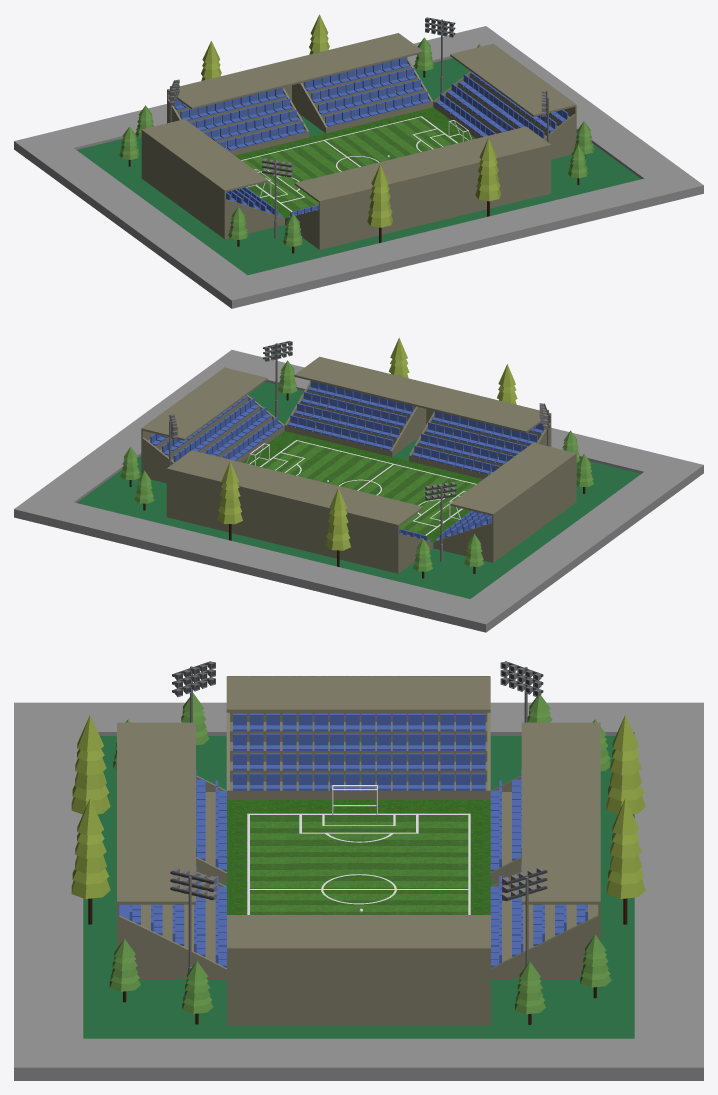
Rendered from Football Stadium.fbx.
3 views of the same model, one above another, from view 1: azimuth 30°, elevation 25°; view 2: azimuth 150°, elevation 25°; view 3: azimuth 270°, elevation 25° (orthographic). The views are drawn at different scales.
Parts seen in each view (by area): view 1: football_floor, football_chair00, football_chair03, football_chair01, football_chair02, football_tree, football_light_post, football_light_post.002; view 2: football_floor, football_chair03, football_chair00, football_chair01, football_chair02, football_tree, football_light_post.001, football_light_post.003; view 3: football_floor, football_chair01, football_chair02, football_chair00, football_chair03, football_tree, football_light_post.001, football_light_post.002, football_light_post.003, football_light_post.
Part boxes in pixels (box(x1,y1,x2,y2)): football_floor: box(14, 26, 703, 308); football_chair00: box(167, 33, 433, 155); football_chair03: box(285, 126, 551, 249); football_chair01: box(141, 119, 284, 239); football_chair02: box(433, 43, 576, 159); football_tree: box(119, 14, 593, 253); football_light_post: box(262, 158, 292, 238); football_light_post.002: box(425, 17, 455, 93); football_floor: box(14, 350, 703, 632); football_chair03: box(284, 356, 551, 479); football_chair00: box(166, 450, 433, 573); football_chair01: box(433, 442, 576, 562); football_chair02: box(141, 367, 284, 483); football_tree: box(120, 337, 593, 578); football_light_post.001: box(263, 341, 292, 417); football_light_post.003: box(425, 482, 456, 561); football_floor: box(14, 702, 703, 1080); football_chair01: box(226, 676, 490, 799); football_chair02: box(227, 915, 490, 1025); football_chair00: box(490, 722, 600, 978); football_chair03: box(117, 722, 226, 978); football_tree: box(71, 693, 645, 1024); football_light_post.001: box(170, 867, 216, 972); football_light_post.002: box(502, 866, 547, 966); football_light_post.003: box(500, 661, 543, 722); football_light_post: box(172, 661, 215, 722).
Size of the model in its own units: 4383 by 755 by 3502.
